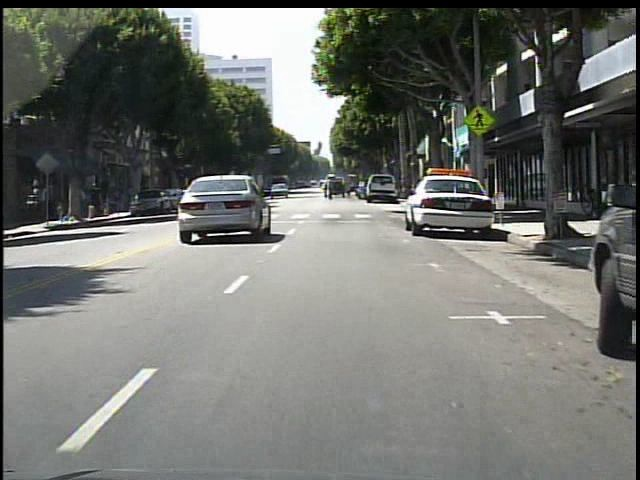person: (91, 182, 104, 219), (37, 181, 48, 220), (81, 186, 92, 218), (330, 177, 331, 199)
